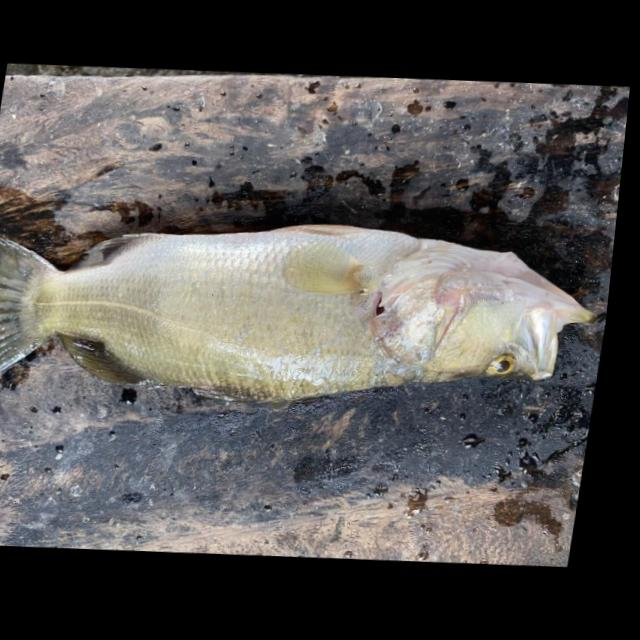Seabass: (0, 203, 614, 428)
